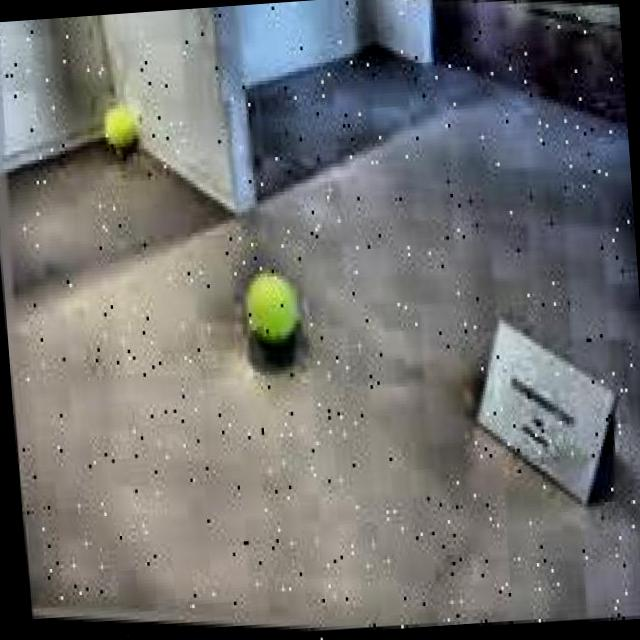Tennis Ball: (238, 274, 307, 370), (100, 98, 147, 167)
